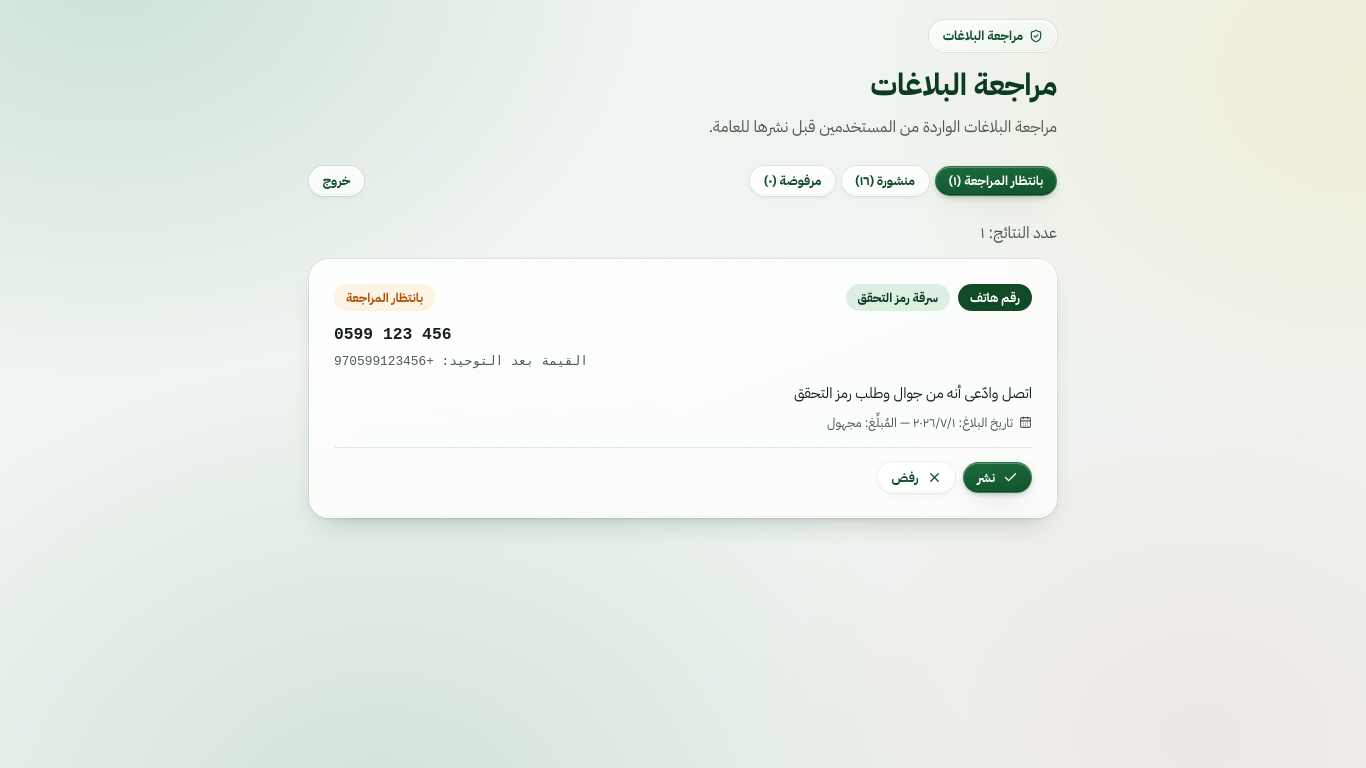
Test: Admin decisions › approves a report and refreshes the queue
Click the button "نشر" at point(998, 478), box [964,462,1032,493]
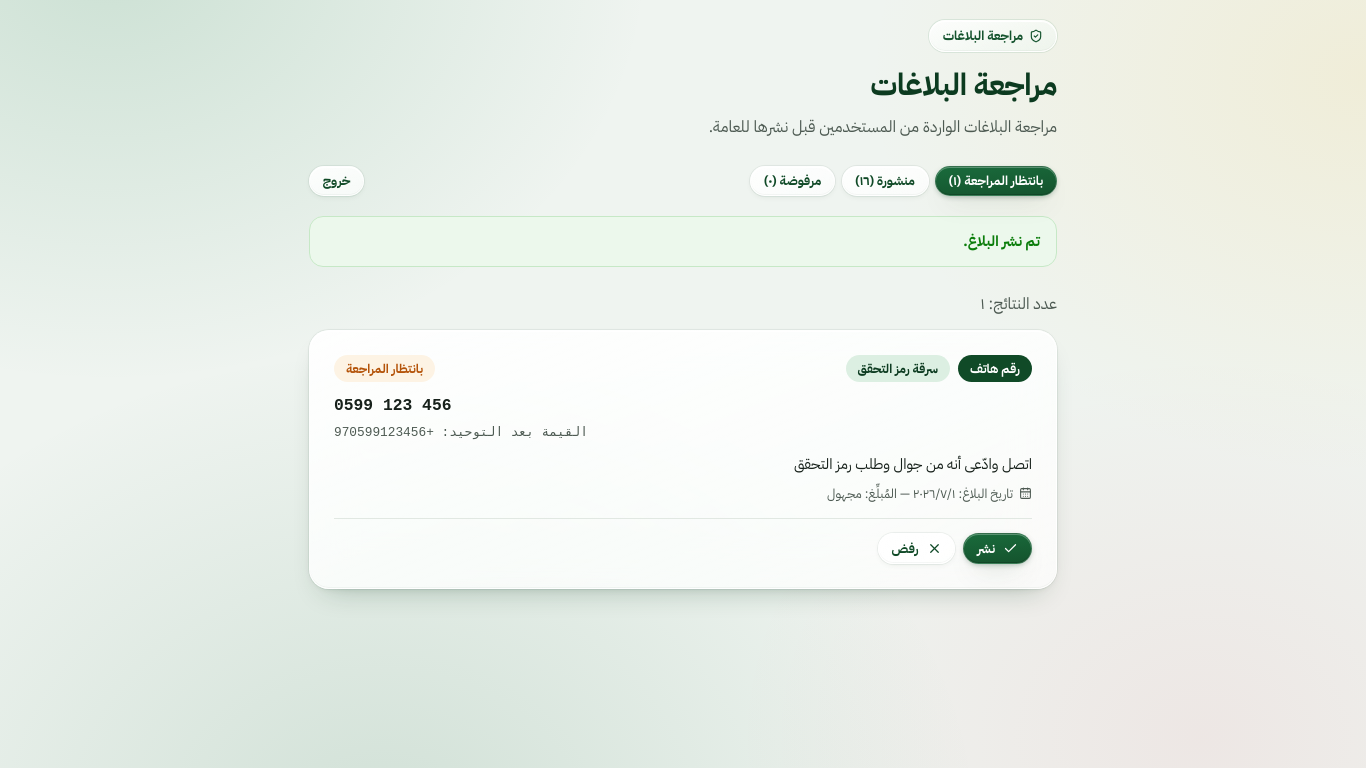
expect the text "تم نشر البلاغ." is shown: met, box [309,216,1057,267]
